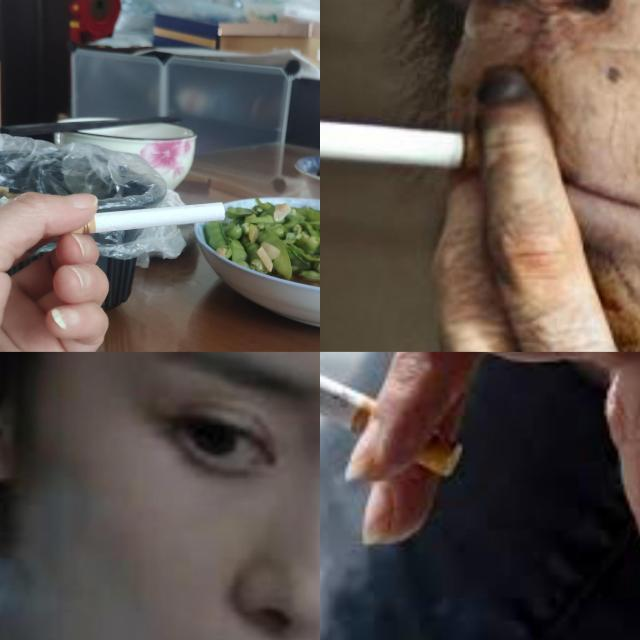smoking: (320, 352, 463, 476), (320, 116, 544, 174), (28, 202, 226, 244)
